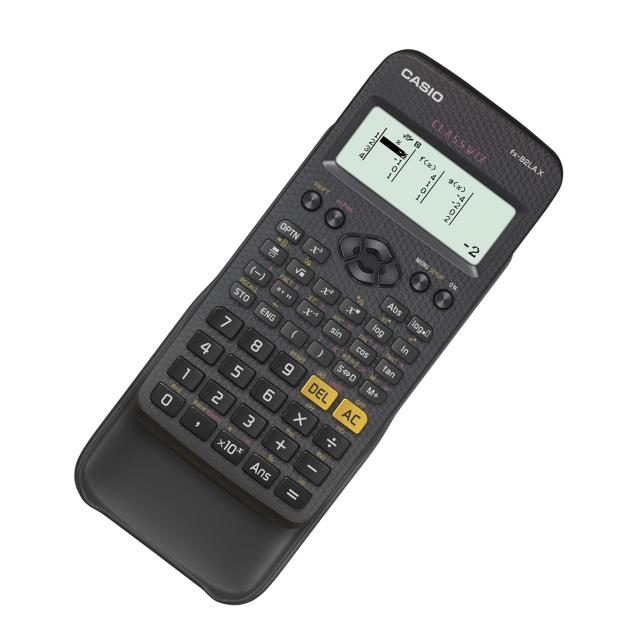Calculator: (64, 38, 595, 638)
